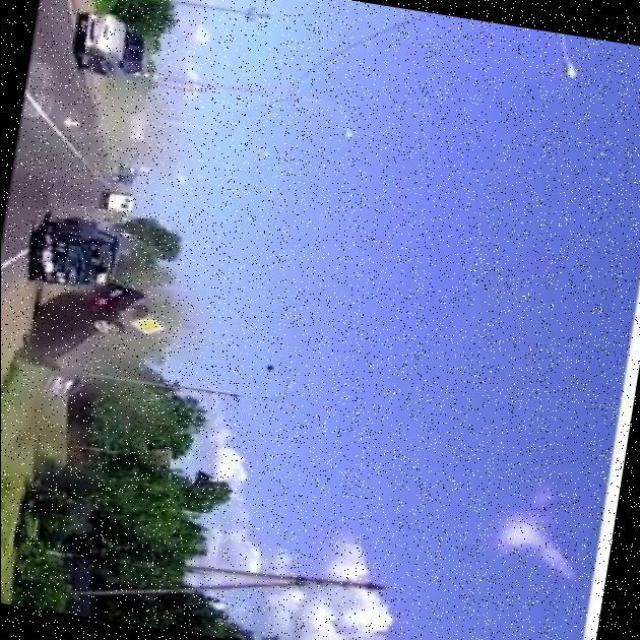accident: (14, 213, 158, 383)
